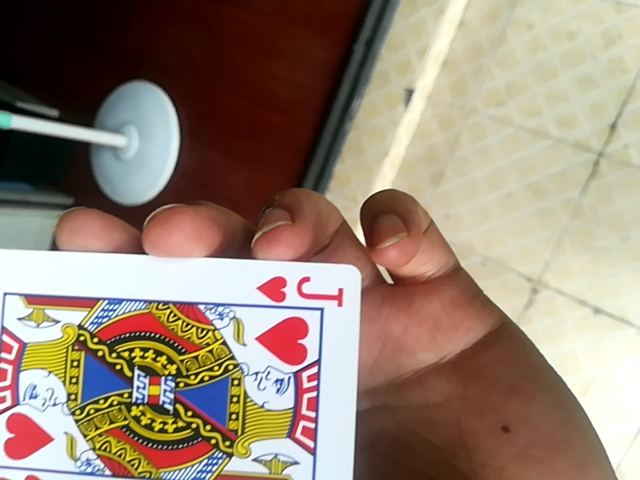hx j: (1, 242, 365, 479)
